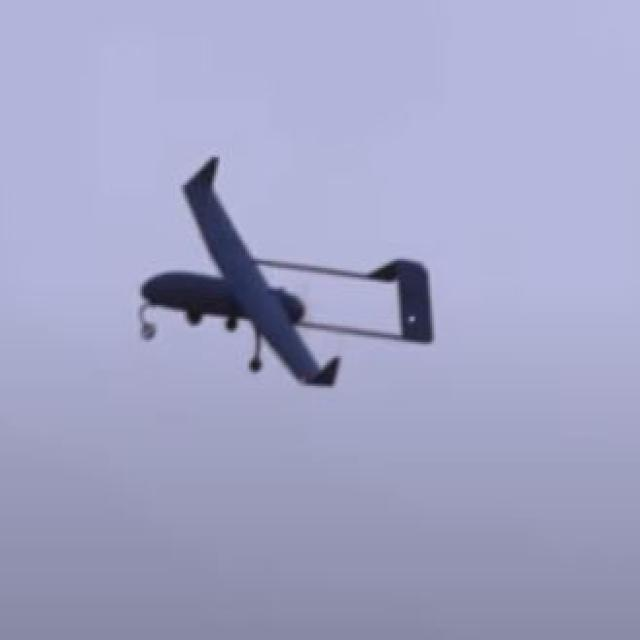iha: (137, 152, 437, 390)
